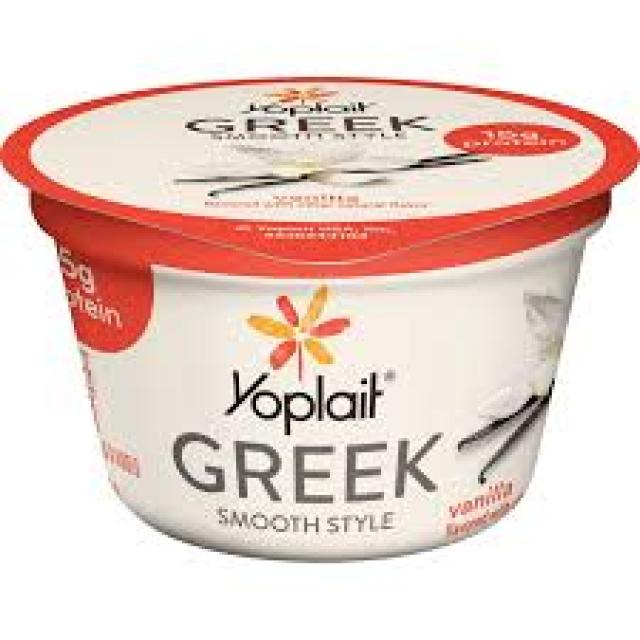yoghurt: (2, 74, 640, 560)
